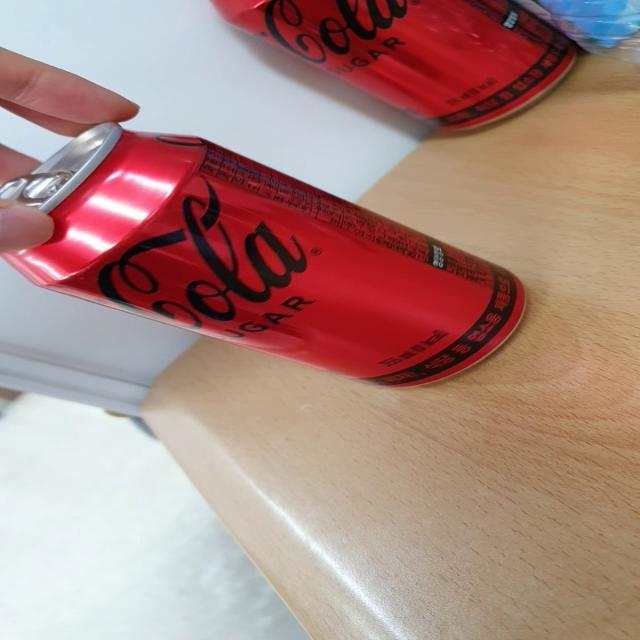coca-cola: (0, 119, 552, 388), (205, 0, 608, 136)
